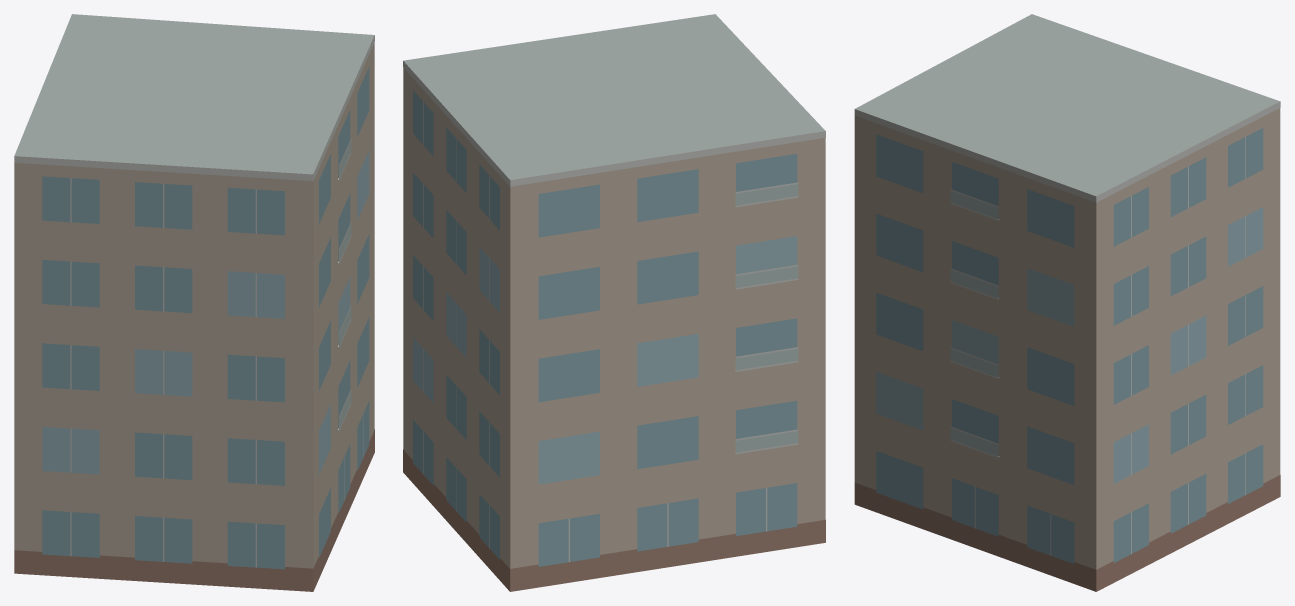
File: survey-upis-32628071.glb
The picture shows the model from 3 angles, left to right: view 1: azimuth 30°, elevation 25°; view 2: azimuth 150°, elevation 25°; view 3: azimuth 270°, elevation 25°; orthographic projection. The views are drawn at different scales.
Parts seen in each view (by area): view 1: survey-upis-32628071.tmp; view 2: survey-upis-32628071.tmp; view 3: survey-upis-32628071.tmp.
Part boxes in pixels (bbox=[...]): survey-upis-32628071.tmp: bbox=[14, 14, 374, 591]; survey-upis-32628071.tmp: bbox=[403, 14, 825, 591]; survey-upis-32628071.tmp: bbox=[854, 14, 1280, 591].
Size of the model in its own units: 15.09 by 15.25 by 14.89.
